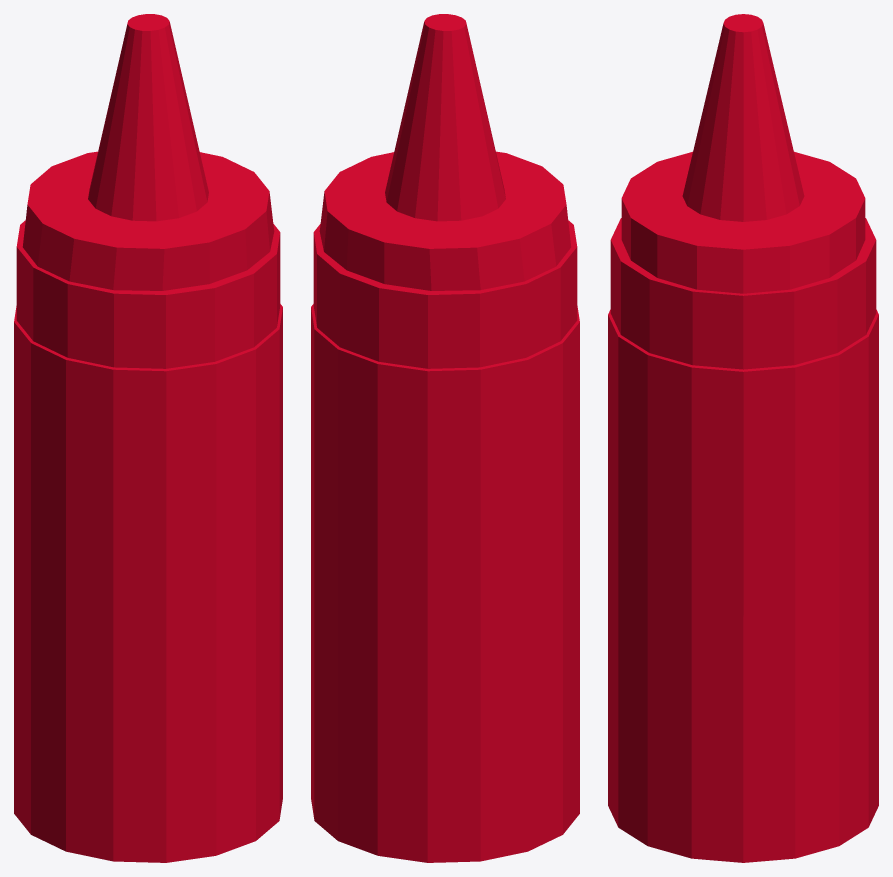
The model's file is Ketchup.fbx.
The picture shows the model from 3 angles, left to right: view 1: azimuth 30°, elevation 25°; view 2: azimuth 150°, elevation 25°; view 3: azimuth 270°, elevation 25°; orthographic projection.
Visible parts, largest first — view 1: Ketchup_Bottle, Cylinder.001, Cylinder, Cylinder.002; view 2: Ketchup_Bottle, Cylinder.001, Cylinder, Cylinder.002; view 3: Ketchup_Bottle, Cylinder.001, Cylinder, Cylinder.002.
Boxes of the visible parts, x1=… form: Ketchup_Bottle: x1=14, y1=304, x2=282, y2=862; Cylinder.001: x1=22, y1=151, x2=274, y2=290; Cylinder: x1=16, y1=220, x2=280, y2=368; Cylinder.002: x1=88, y1=14, x2=208, y2=221; Ketchup_Bottle: x1=311, y1=304, x2=579, y2=862; Cylinder.001: x1=319, y1=151, x2=571, y2=290; Cylinder: x1=313, y1=220, x2=577, y2=368; Cylinder.002: x1=385, y1=14, x2=505, y2=221; Ketchup_Bottle: x1=608, y1=309, x2=878, y2=862; Cylinder.001: x1=621, y1=151, x2=865, y2=293; Cylinder: x1=610, y1=218, x2=876, y2=369; Cylinder.002: x1=682, y1=14, x2=804, y2=221.
Bounding box in the file's own units: 100 × 319 × 100.
